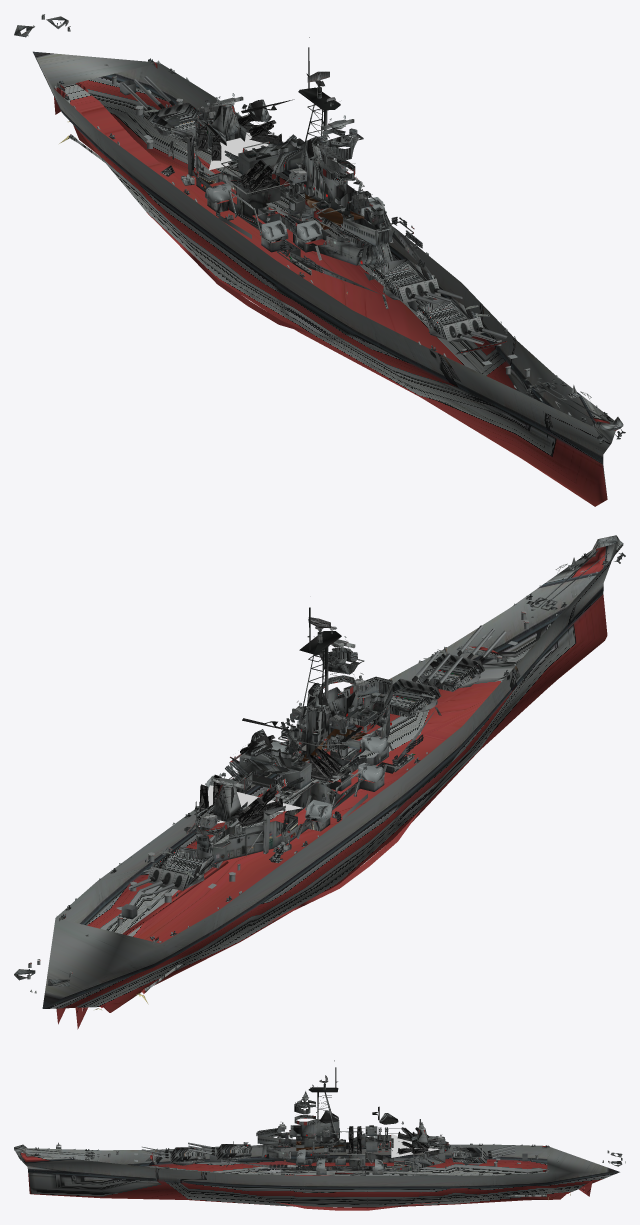
Rendered from ship_battleship-lo.glb.
The picture shows the model from 3 angles, top to bottom: view 1: azimuth 30°, elevation 25°; view 2: azimuth 150°, elevation 25°; view 3: azimuth 270°, elevation 25°; orthographic projection. The views are drawn at different scales.
Bounding box in the file's own units: 9.54 × 19.34 × 77.95.
11 materials, 9 textured.
